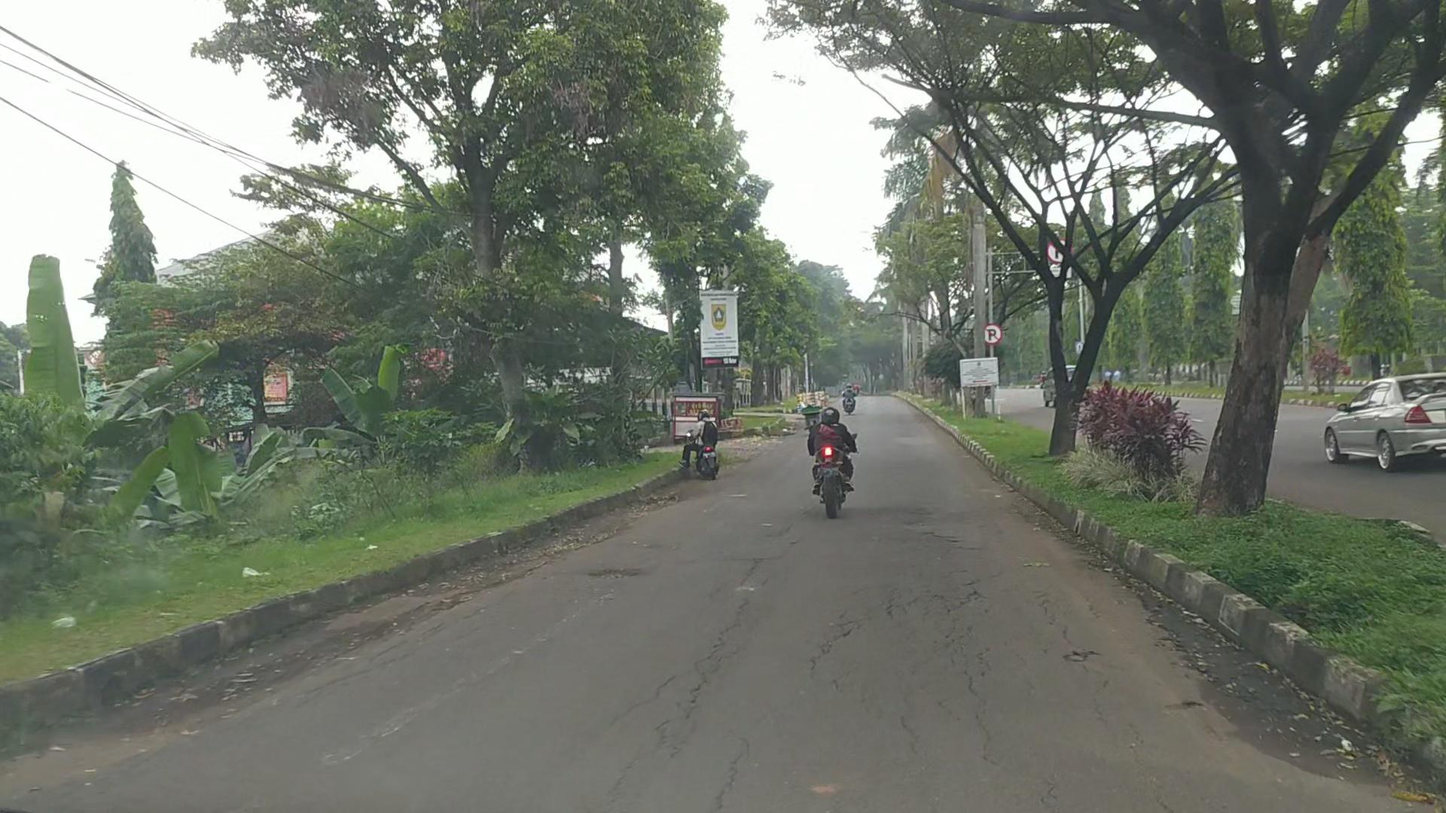pothole: (586, 566, 636, 582)
